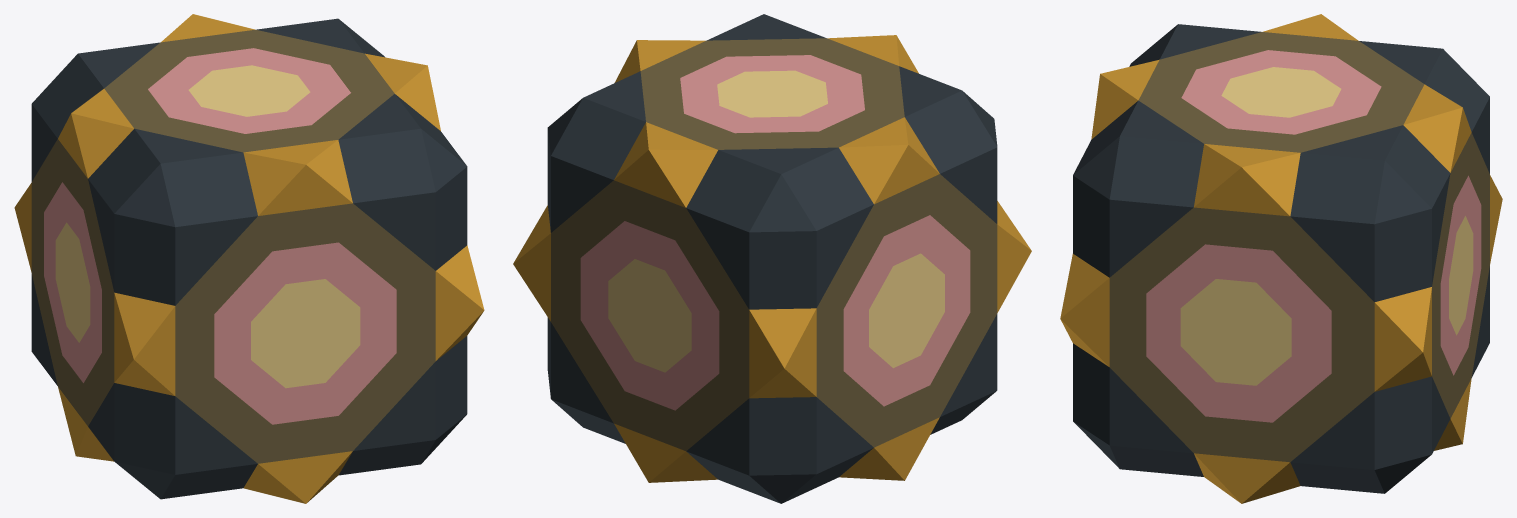
The model's file is Obra6_stoer.glb.
The picture shows the model from 3 angles, left to right: view 1: azimuth 30°, elevation 25°; view 2: azimuth 150°, elevation 25°; view 3: azimuth 270°, elevation 25°; orthographic projection.
Parts seen in each view (by area): view 1: Cube.001, Cube.025, Cube.024, Cube.026, Cube.023; view 2: Cube.001, Cube.025, Cube.024, Cube.026, Cube.023; view 3: Cube.001, Cube.025, Cube.024, Cube.026, Cube.023.
Part boxes in pixels (left/top/right/bottom): Cube.001: left=31, top=18, right=467, bottom=499; Cube.025: left=31, top=29, right=435, bottom=463; Cube.024: left=44, top=48, right=396, bottom=424; Cube.026: left=14, top=14, right=484, bottom=503; Cube.023: left=55, top=65, right=360, bottom=388; Cube.001: left=547, top=14, right=997, bottom=503; Cube.025: left=551, top=38, right=997, bottom=450; Cube.024: left=580, top=55, right=970, bottom=410; Cube.026: left=513, top=35, right=1031, bottom=482; Cube.023: left=608, top=70, right=944, bottom=372; Cube.001: left=1073, top=24, right=1489, bottom=493; Cube.025: left=1109, top=32, right=1489, bottom=462; Cube.024: left=1146, top=50, right=1481, bottom=422; Cube.026: left=1060, top=14, right=1502, bottom=503; Cube.023: left=1180, top=67, right=1473, bottom=385.
Bounding box in the file's own units: 2.39 × 2.05 × 2.41.
